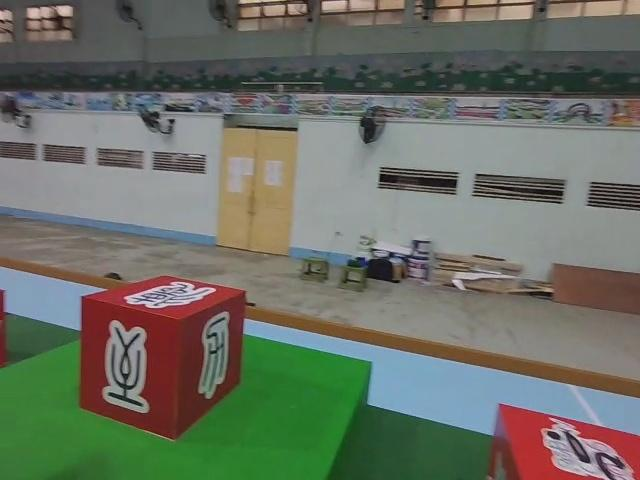R1: (489, 402, 640, 480)
R2 Fake: (79, 273, 247, 440)
